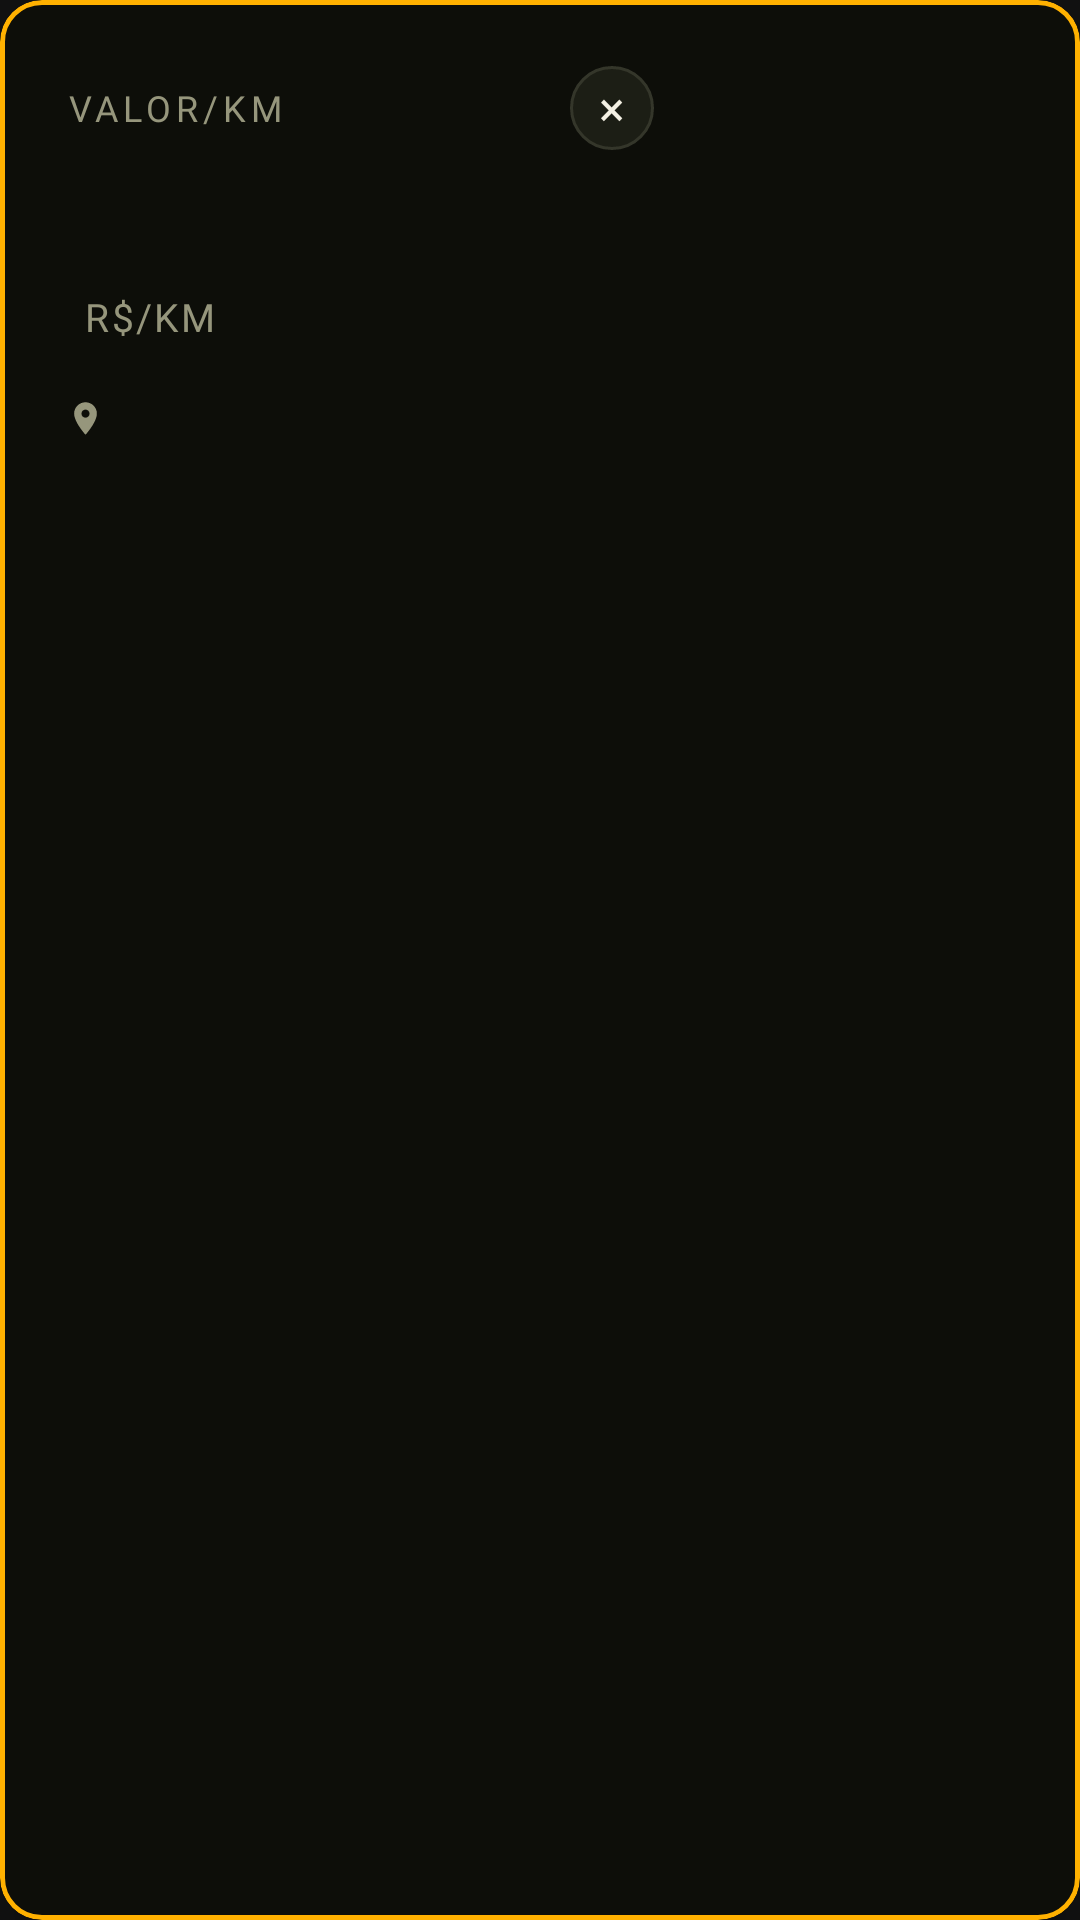

Named icons in this screenshot (1080px×1920px) and their bounding boxes, rect(x1, y1, x2, y2):
location: rect(74, 402, 97, 435)
